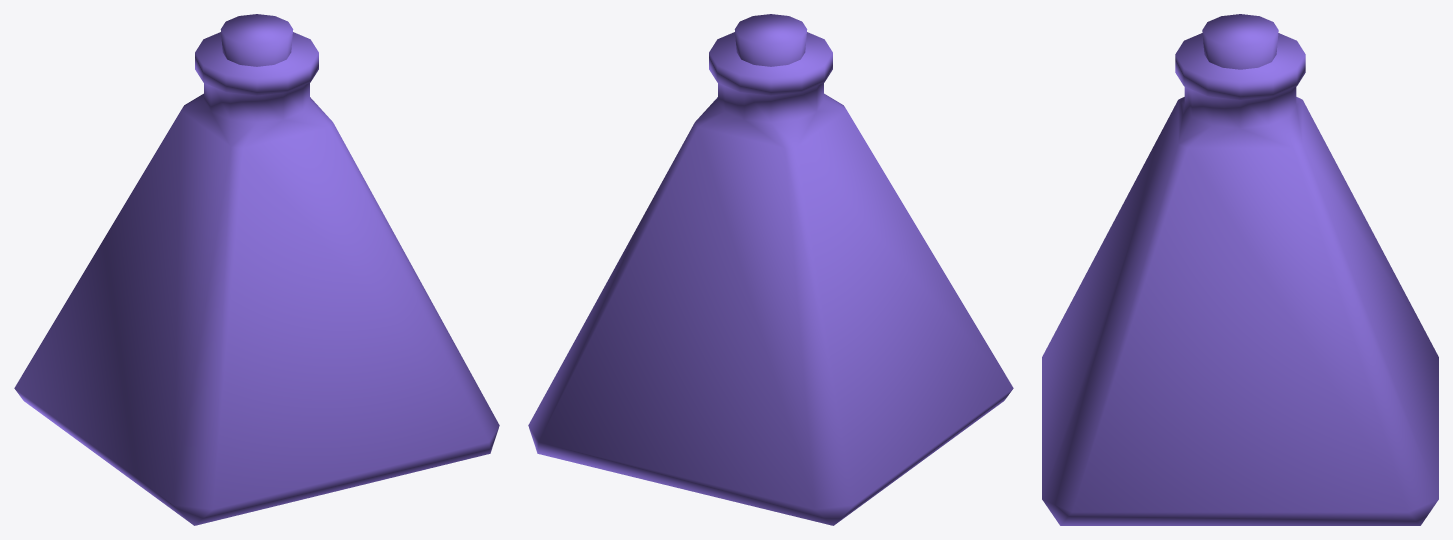
The model's file is bottle3.fbx.
3 views of the same model, side by side, from view 1: azimuth 30°, elevation 25°; view 2: azimuth 150°, elevation 25°; view 3: azimuth 270°, elevation 25° (orthographic). The views are drawn at different scales.
Visible parts, largest first — view 1: bottle3; view 2: bottle3; view 3: bottle3.
Part boxes in pixels (x1,y1,x2,y2): bottle3: [14, 14, 499, 525]; bottle3: [528, 14, 1013, 525]; bottle3: [1042, 14, 1438, 525].
Size of the model in its own units: 10.14 by 11.83 by 10.14.
